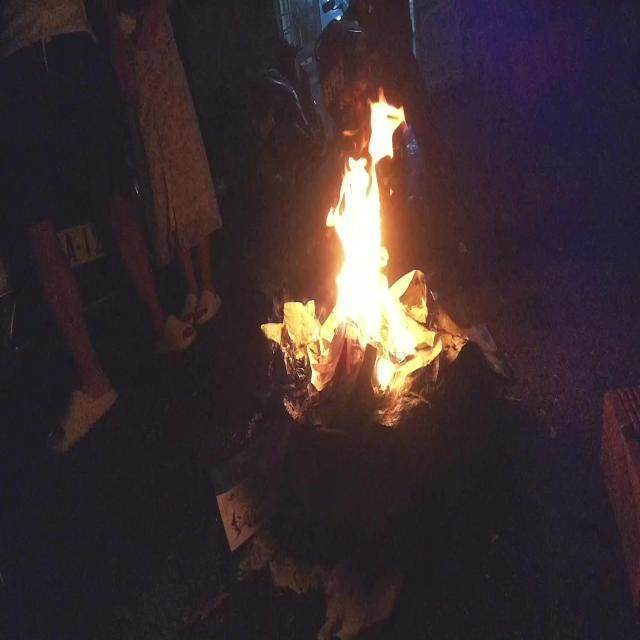Fire: (270, 83, 444, 430)
